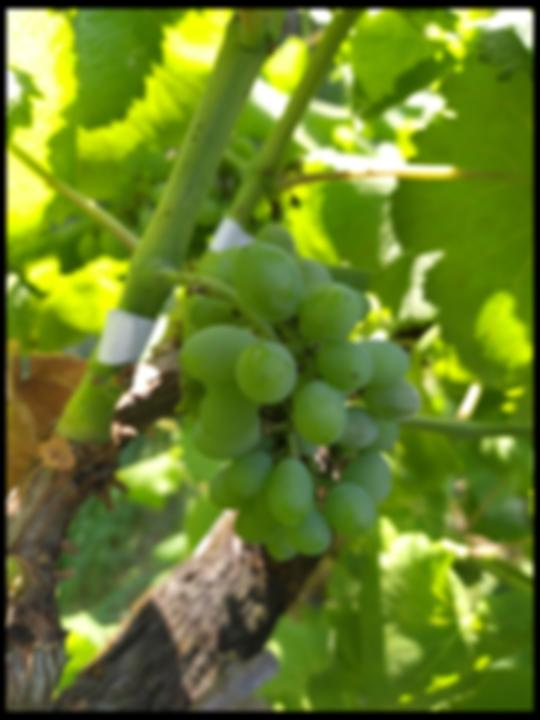grape: (173, 216, 430, 566)
